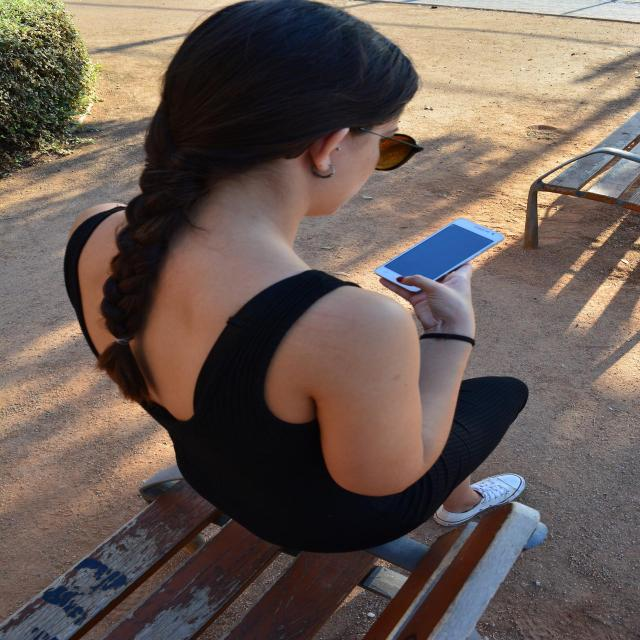phone: (368, 218, 509, 294)
